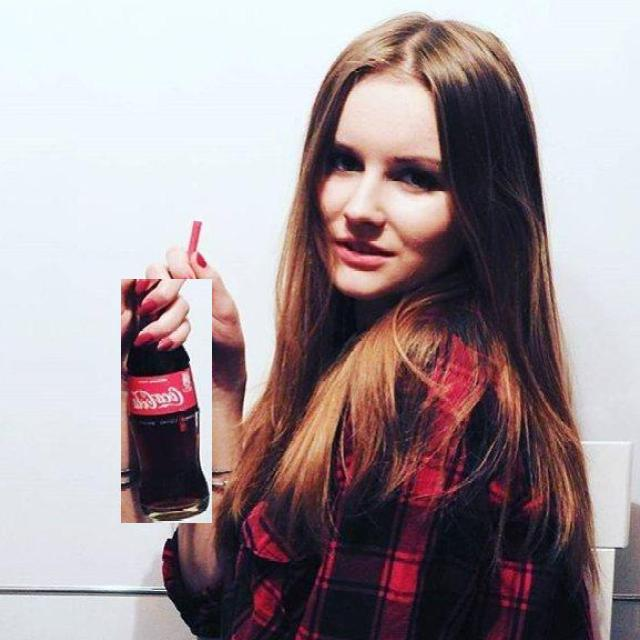coca-cola: (121, 279, 212, 523)
